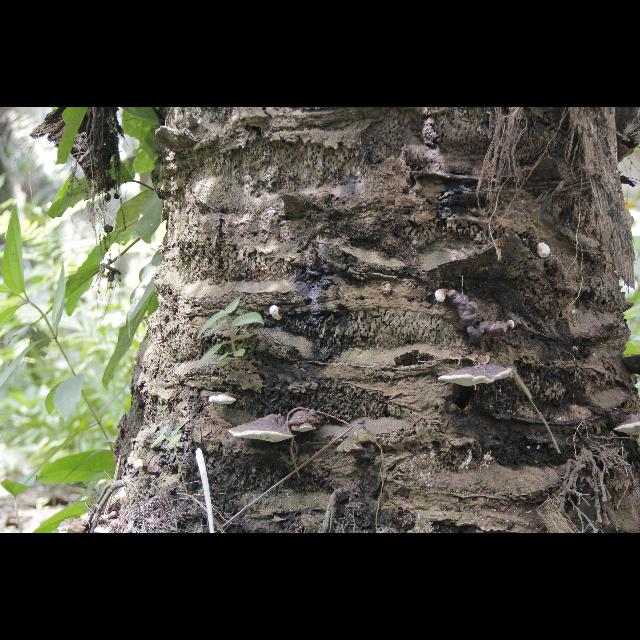ganoderma: (449, 291, 508, 347), (230, 415, 295, 444), (439, 364, 514, 388), (289, 411, 328, 434), (615, 415, 640, 437), (58, 518, 90, 535), (210, 394, 239, 406), (95, 526, 113, 535)
primordium: (135, 461, 163, 478), (271, 307, 285, 322), (537, 244, 551, 259), (436, 290, 448, 304), (509, 321, 516, 331), (572, 311, 576, 316)
